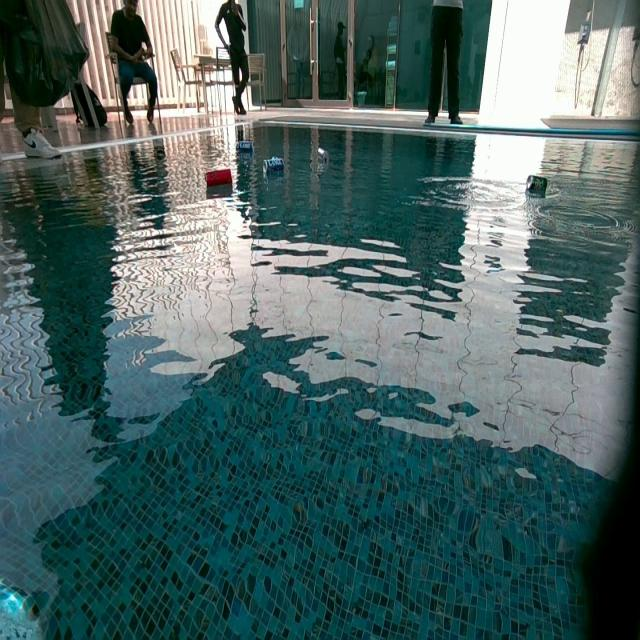Cans: (205, 170, 232, 189), (526, 174, 548, 193), (265, 158, 285, 176), (237, 139, 254, 154), (317, 147, 329, 165)
